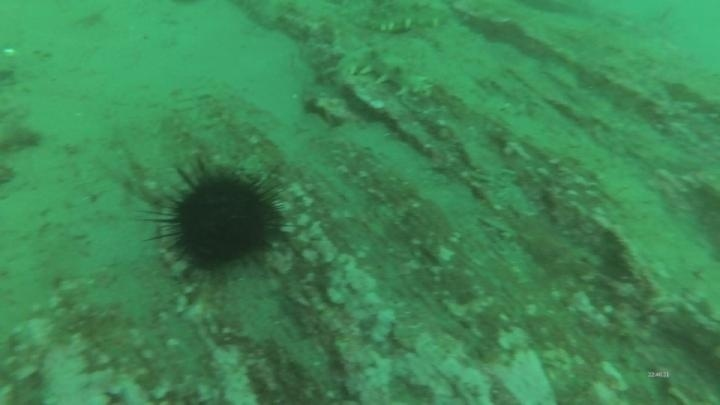echinus: (147, 156, 289, 281)
holothurian: (334, 42, 437, 110), (356, 1, 457, 37)
